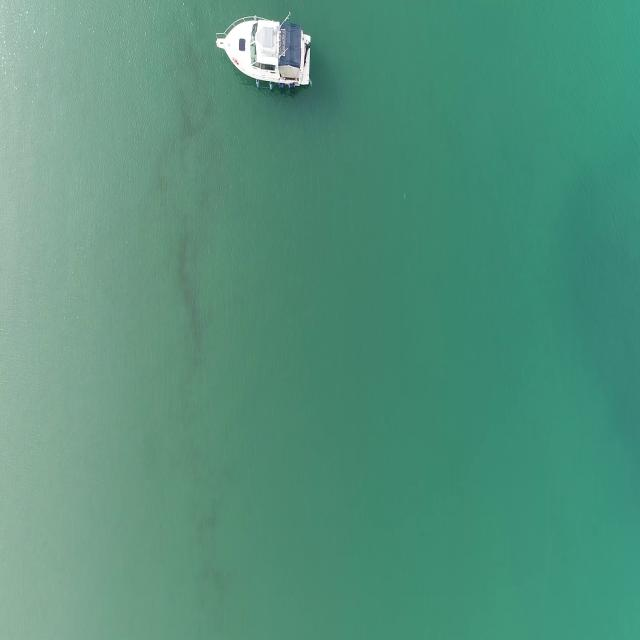boat: (214, 17, 313, 95)
